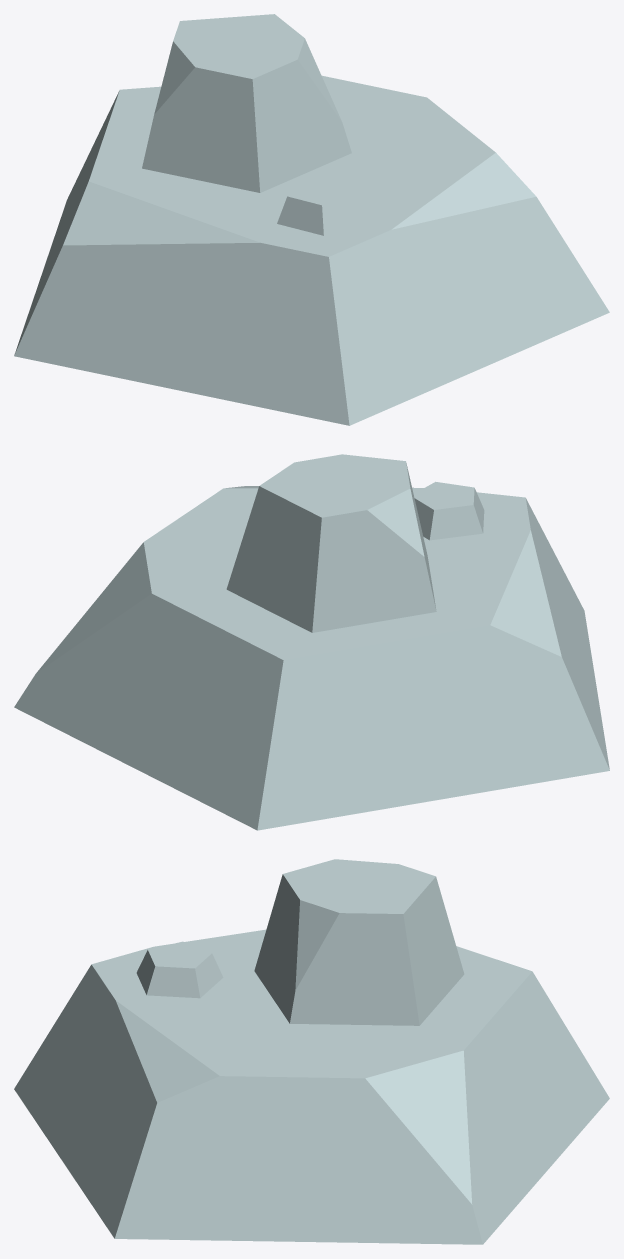
The model's file is stone_smallTopB.glb.
3 renders of one model, top to bottom at view 1: azimuth 30°, elevation 25°; view 2: azimuth 150°, elevation 25°; view 3: azimuth 270°, elevation 25°, orthographic. The views are drawn at different scales.
Parts seen in each view (by area): view 1: stone_smallTopB; view 2: stone_smallTopB; view 3: stone_smallTopB.
Boxes of the visible parts, x1,y1,x2,y2 form: stone_smallTopB: (14, 14, 609, 425); stone_smallTopB: (14, 454, 609, 830); stone_smallTopB: (14, 859, 609, 1244).
Size of the model in its own units: 0.6221 by 0.28 by 0.6463.
